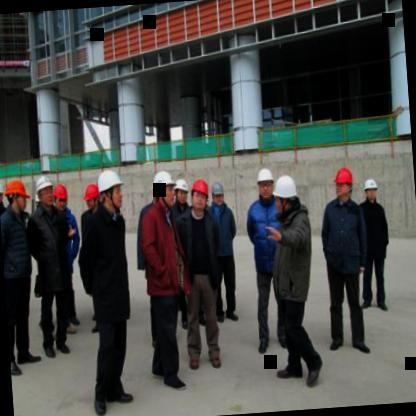helmet: (94, 166, 126, 214), (270, 173, 301, 220), (147, 168, 177, 213), (3, 176, 32, 219), (331, 162, 356, 204), (253, 164, 278, 202), (34, 173, 56, 212), (188, 177, 210, 214), (209, 180, 228, 212), (53, 180, 72, 212), (82, 181, 101, 212), (362, 175, 380, 205), (172, 176, 190, 206), (0, 181, 5, 211)
